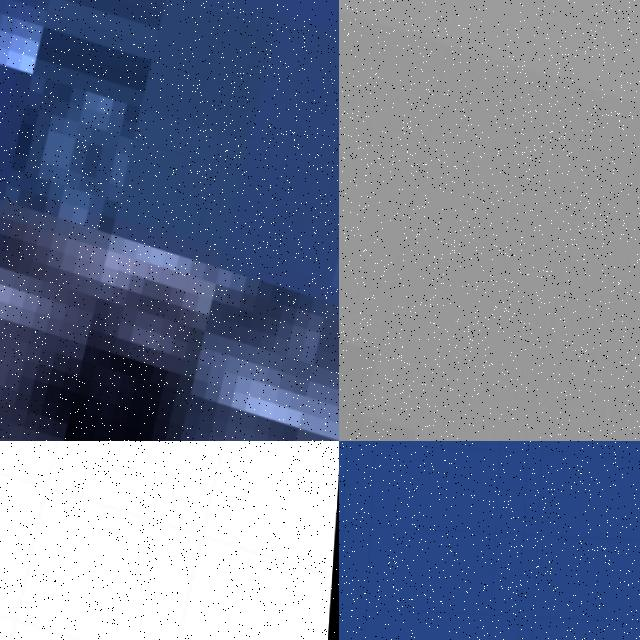drone: (0, 0, 339, 441), (339, 0, 640, 441), (0, 441, 339, 640)
